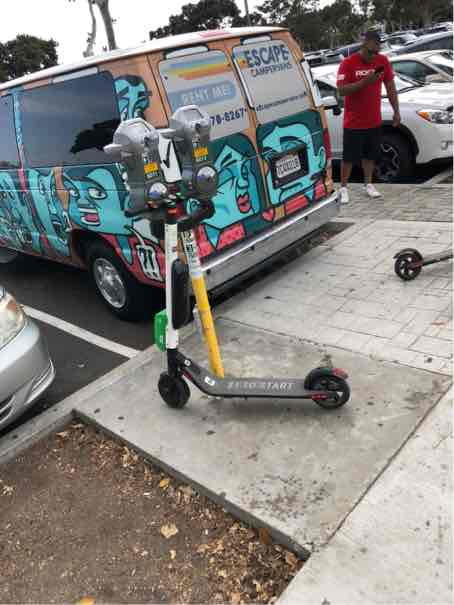scooter: (131, 181, 351, 419)
